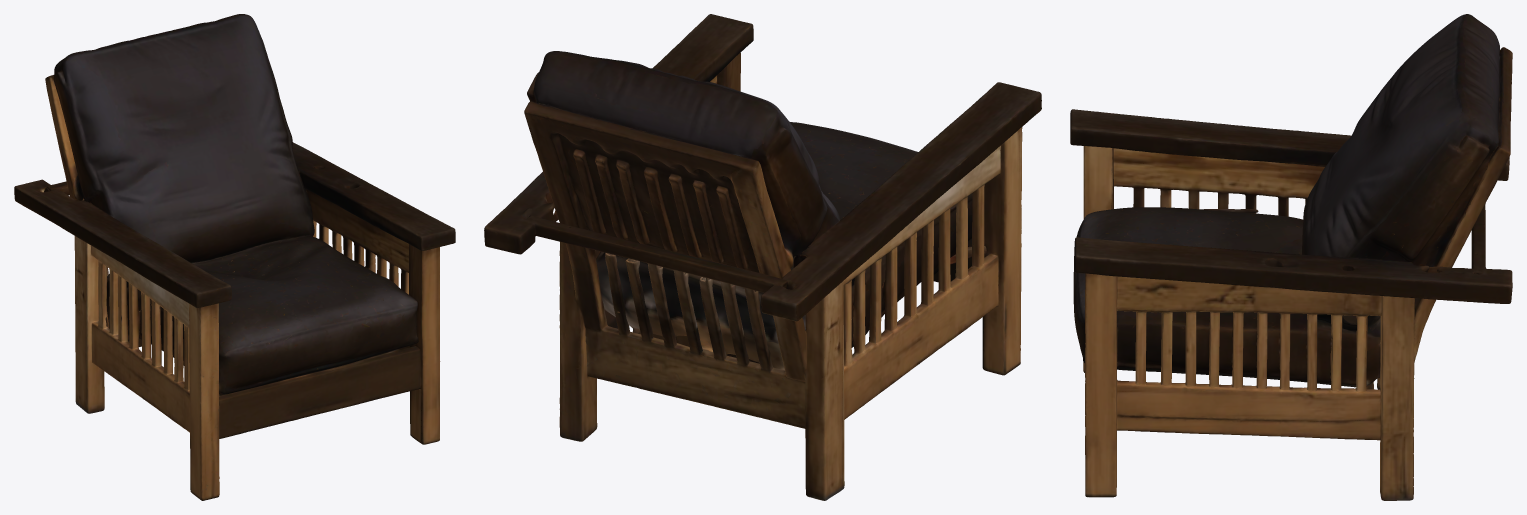
3 renders of one model, left to right at view 1: azimuth 30°, elevation 25°; view 2: azimuth 150°, elevation 25°; view 3: azimuth 270°, elevation 25°, orthographic. The views are drawn at different scales.
Visible parts, largest first — view 1: world; view 2: world; view 3: world.
Boxes of the visible parts, x1,y1,x2,y2 form: world: (14, 14, 455, 500); world: (484, 14, 1041, 500); world: (1070, 14, 1512, 500).
Size of the model in its own units: 0.7962 by 0.9571 by 1.
Materials: 1 (1 with a texture image).
